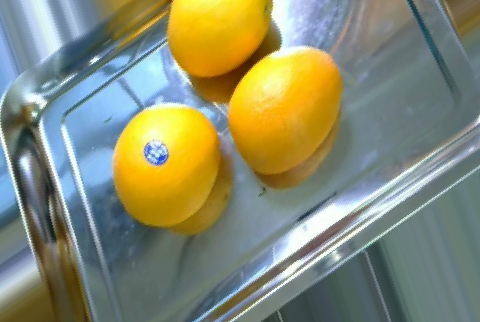Orange: (227, 43, 344, 173), (111, 102, 219, 227), (165, 1, 273, 79)
